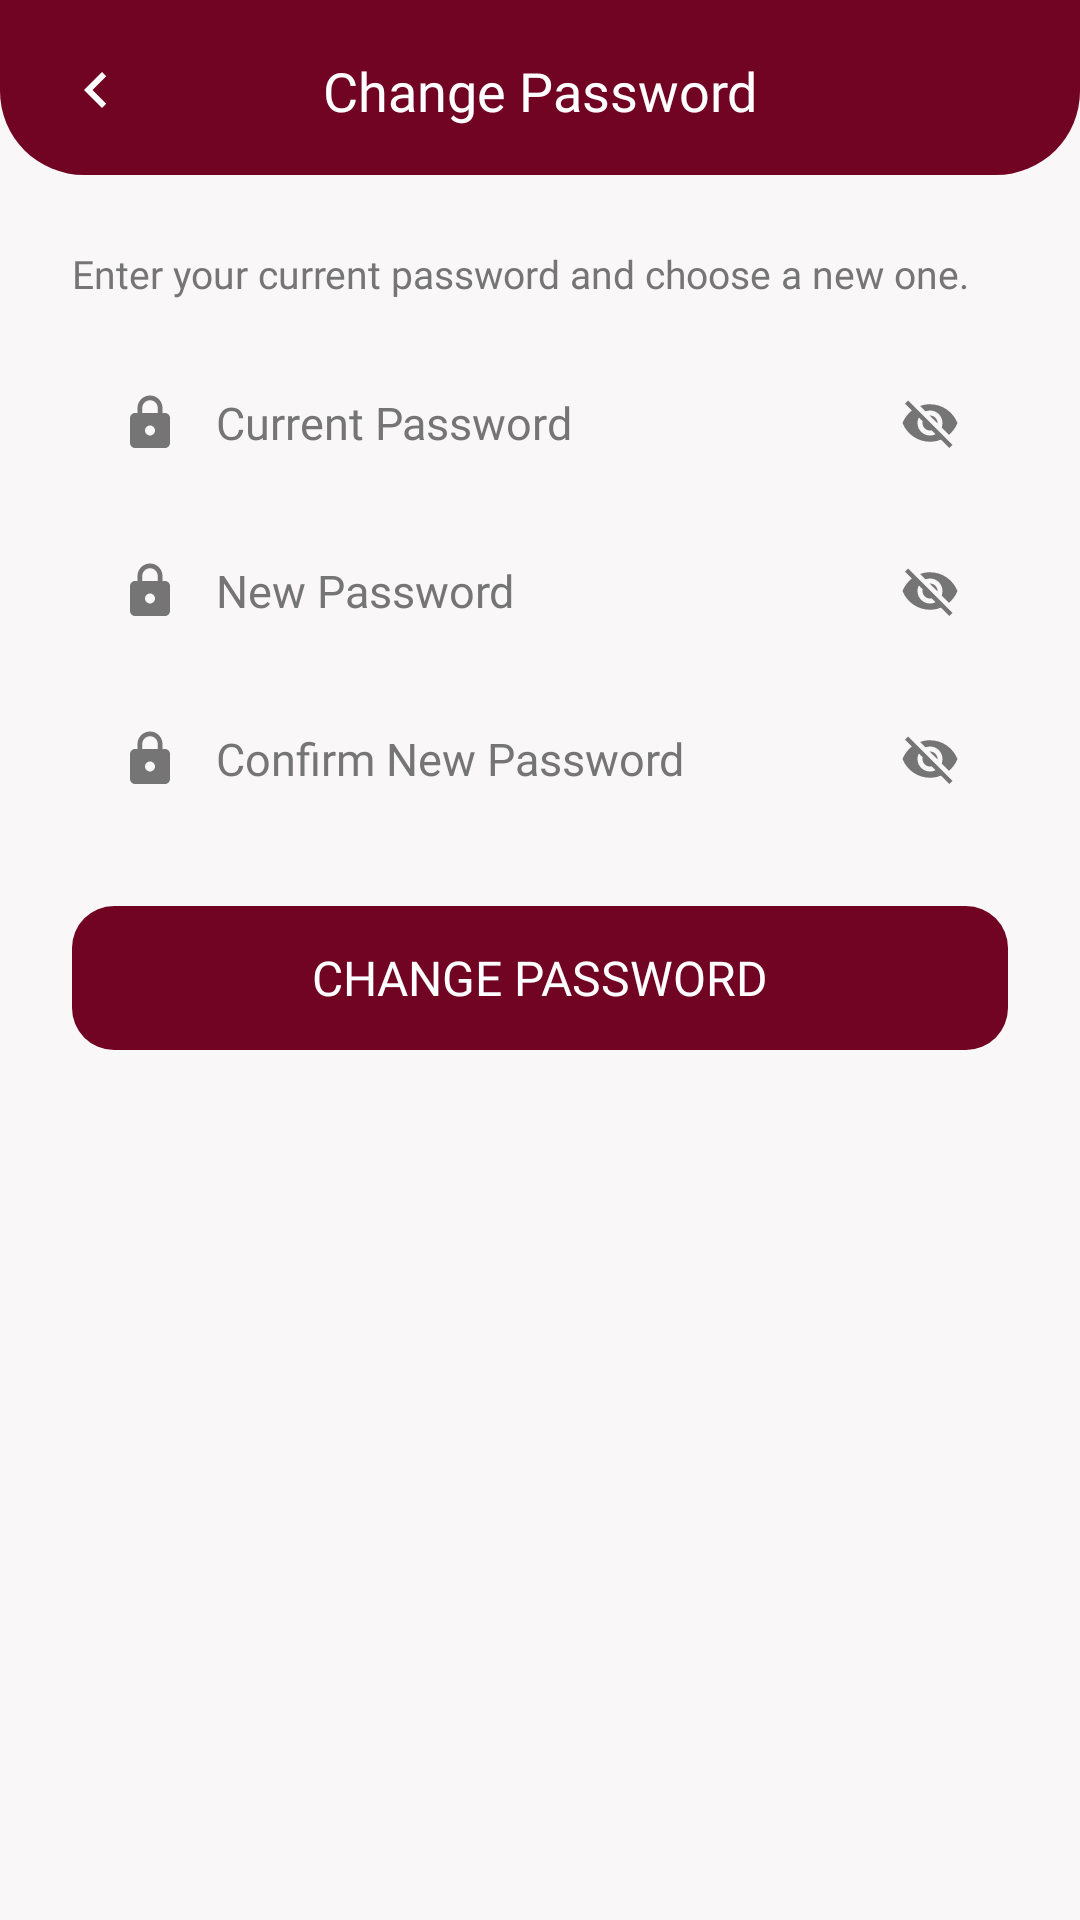

Screen size 1080*1920. Icon name, then its box in pixels as Rect(x1, y1, x2, y2):
eye off: Rect(902, 400, 958, 448), Rect(902, 568, 958, 616), Rect(902, 736, 958, 784)
lock: Rect(130, 395, 170, 448), Rect(130, 563, 170, 616), Rect(130, 731, 170, 784)
